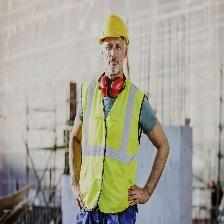Person: (66, 13, 173, 223)
helmet: (99, 11, 130, 46)
vest: (76, 73, 149, 214)
